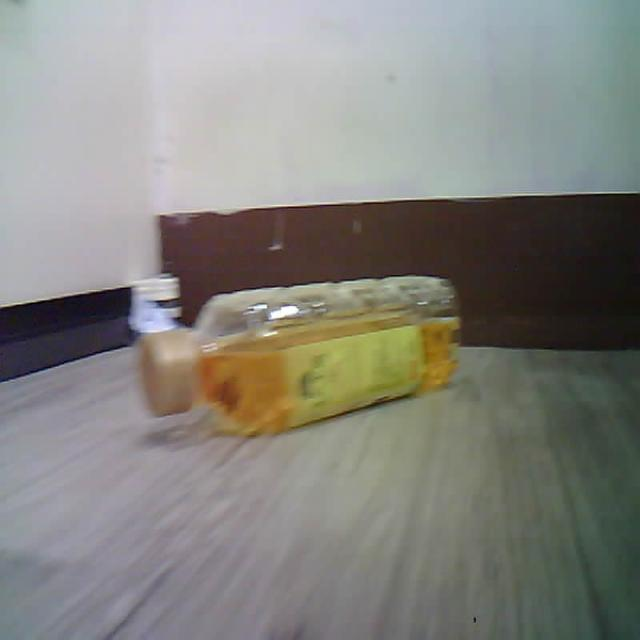bottle: (141, 276, 459, 435)
